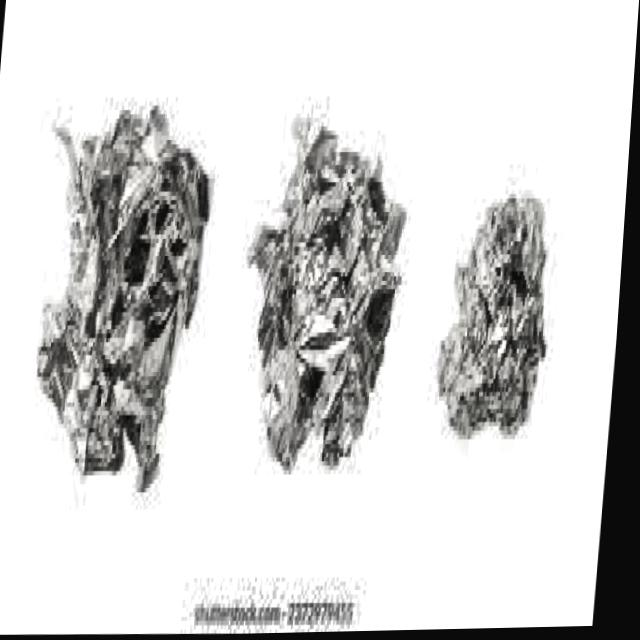Foil: (12, 91, 226, 520), (241, 101, 427, 485), (430, 179, 566, 457)
